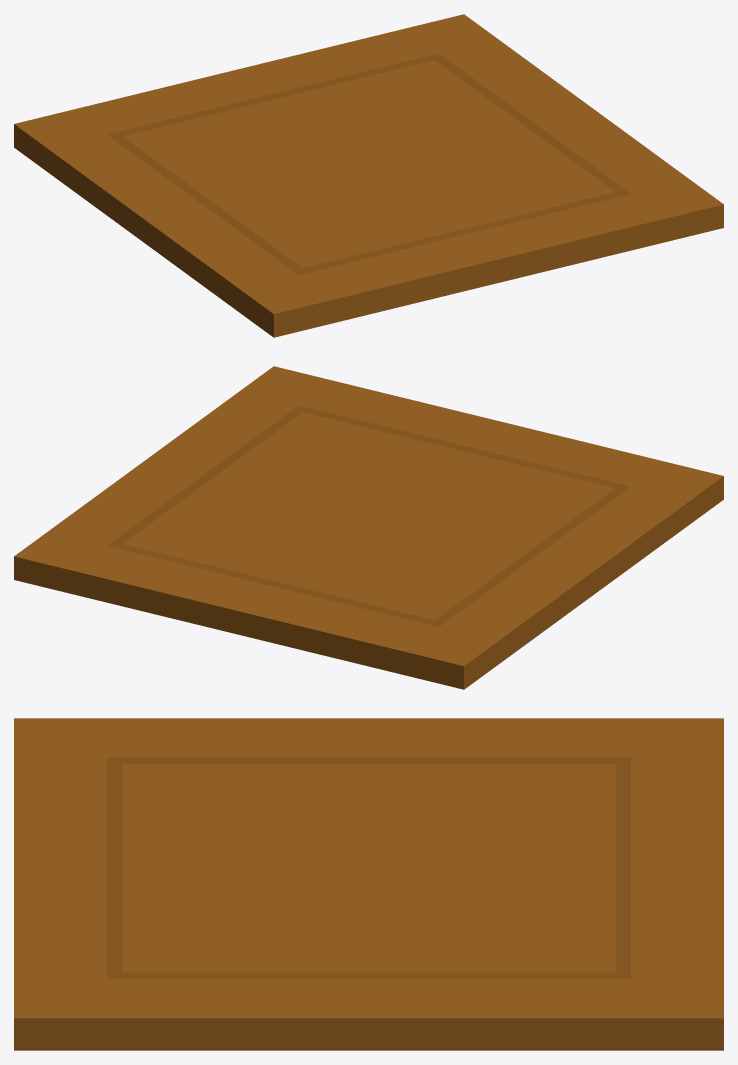
Rendered from floorSquareTile.fbx.
The picture shows the model from 3 angles, top to bottom: view 1: azimuth 30°, elevation 25°; view 2: azimuth 150°, elevation 25°; view 3: azimuth 270°, elevation 25°; orthographic projection. The views are drawn at different scales.
Visible parts, largest first — view 1: Floor Square Tiles; view 2: Floor Square Tiles; view 3: Floor Square Tiles.
Part boxes in pixels (x1=…): Floor Square Tiles: x1=14, y1=14, x2=723, y2=337; Floor Square Tiles: x1=14, y1=366, x2=723, y2=689; Floor Square Tiles: x1=14, y1=718, x2=723, y2=1050.
Size of the model in its own units: 200 by 200 by 10.
